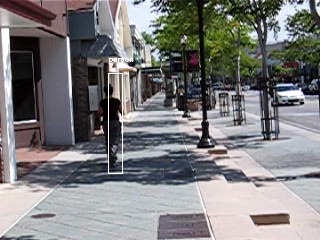person: (98, 85, 125, 171), (97, 85, 124, 171), (99, 85, 126, 171), (98, 84, 125, 170), (98, 86, 125, 172)
target_negative: (16, 34, 186, 160), (176, 113, 297, 230), (230, 79, 311, 226), (139, 70, 167, 212), (87, 124, 268, 137), (22, 164, 31, 215)
